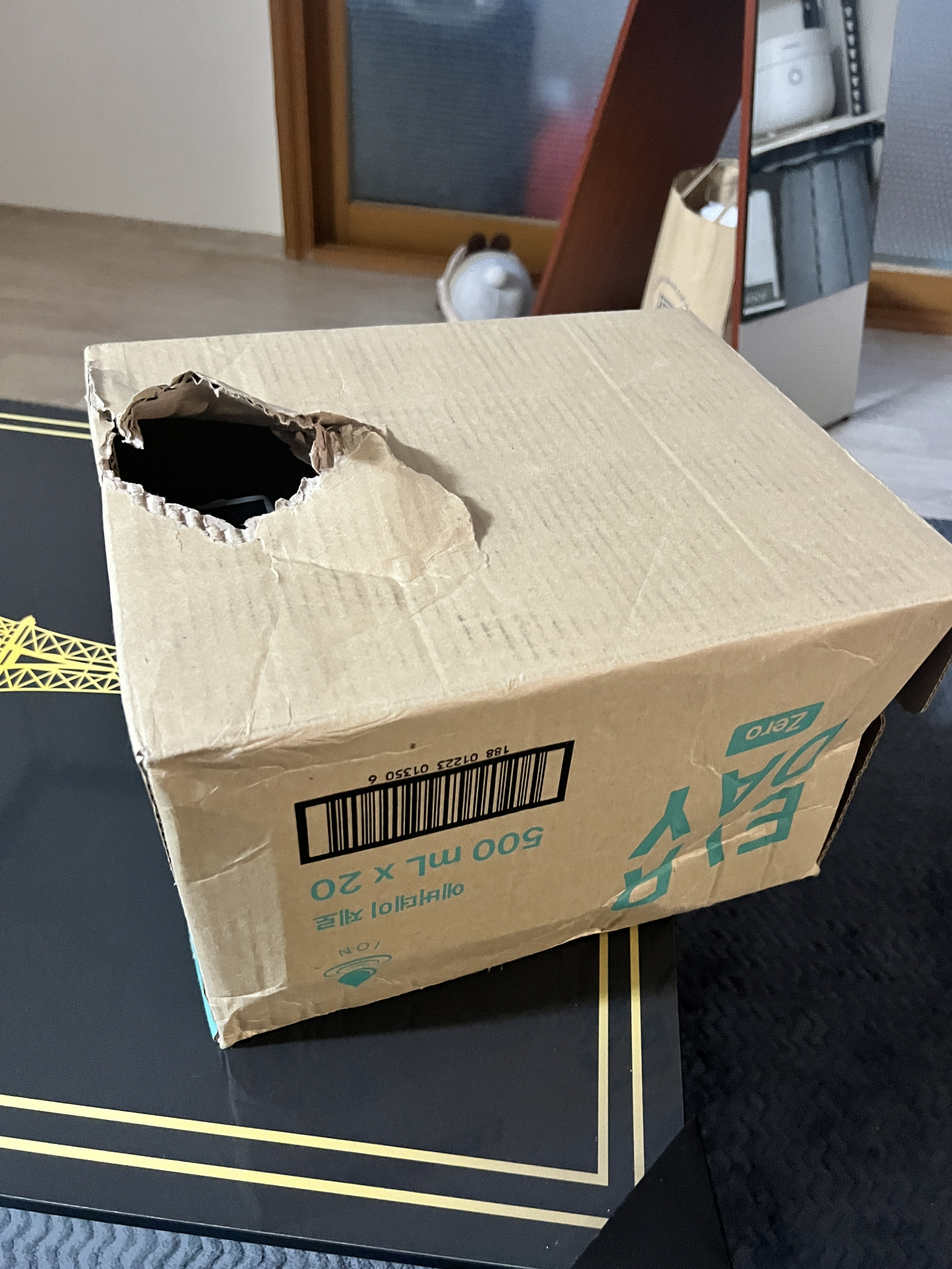damaged package: (102, 369, 507, 562), (633, 702, 851, 926), (173, 782, 310, 1064)
